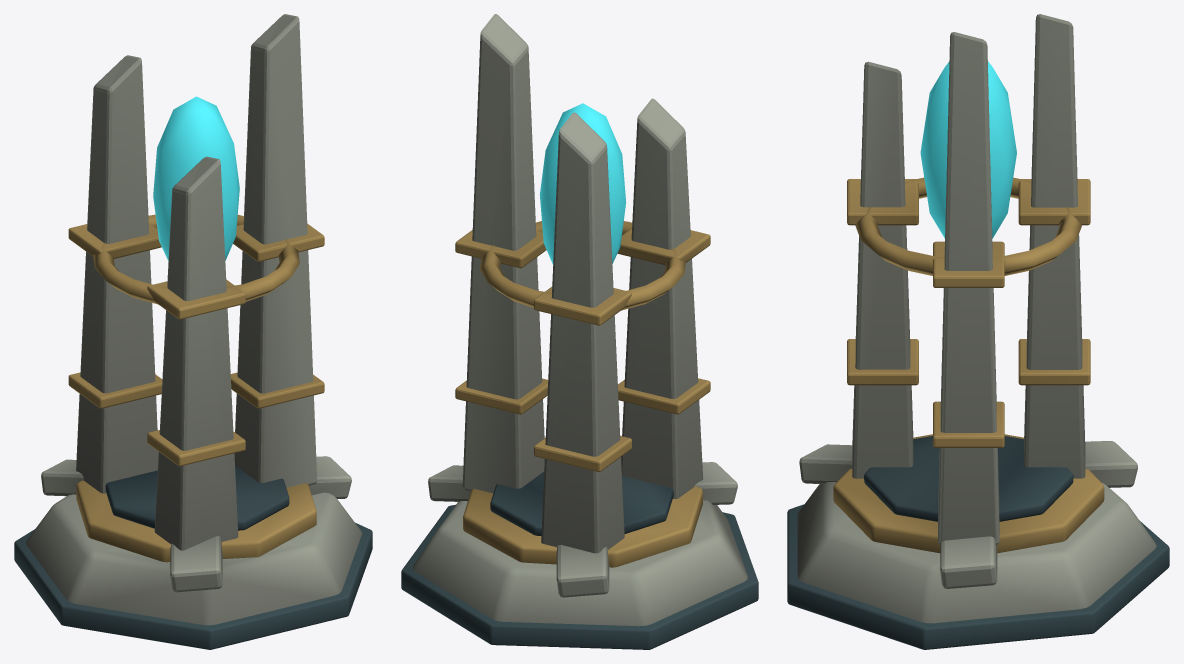
Rendered from skyreach-memory-spire-v1.glb.
The picture shows the model from 3 angles, left to right: view 1: azimuth 30°, elevation 25°; view 2: azimuth 150°, elevation 25°; view 3: azimuth 270°, elevation 25°; orthographic projection. The views are drawn at different scales.
Parts seen in each view (by area): view 1: GB_SPIRE_Stone, GB_SPIRE_Bronze, GB_SPIRE_Recess, GB_SPIRE_Lens; view 2: GB_SPIRE_Stone, GB_SPIRE_Bronze, GB_SPIRE_Recess, GB_SPIRE_Lens; view 3: GB_SPIRE_Stone, GB_SPIRE_Bronze, GB_SPIRE_Recess, GB_SPIRE_Lens.
Boxes of the visible parts, bbox=[...] form: GB_SPIRE_Stone: bbox=[26, 14, 361, 625]; GB_SPIRE_Bronze: bbox=[68, 214, 324, 562]; GB_SPIRE_Recess: bbox=[14, 465, 372, 649]; GB_SPIRE_Lens: bbox=[153, 96, 239, 261]; GB_SPIRE_Stone: bbox=[413, 14, 747, 626]; GB_SPIRE_Bronze: bbox=[455, 221, 710, 567]; GB_SPIRE_Recess: bbox=[401, 471, 758, 649]; GB_SPIRE_Lens: bbox=[539, 103, 626, 264]; GB_SPIRE_Stone: bbox=[797, 14, 1156, 623]; GB_SPIRE_Bronze: bbox=[833, 177, 1104, 553]; GB_SPIRE_Recess: bbox=[787, 436, 1169, 649]; GB_SPIRE_Lens: bbox=[920, 61, 1016, 238].
Bounding box in the file's own units: 1.26 × 2.09 × 1.23.
